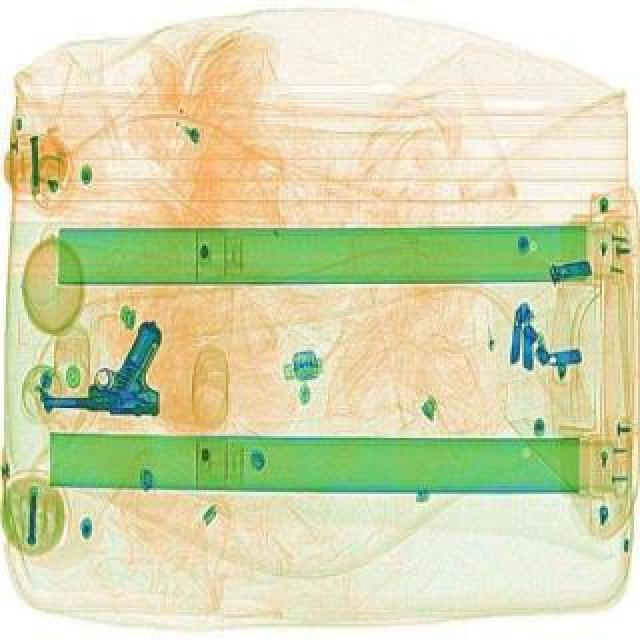gun: (38, 324, 168, 424)
